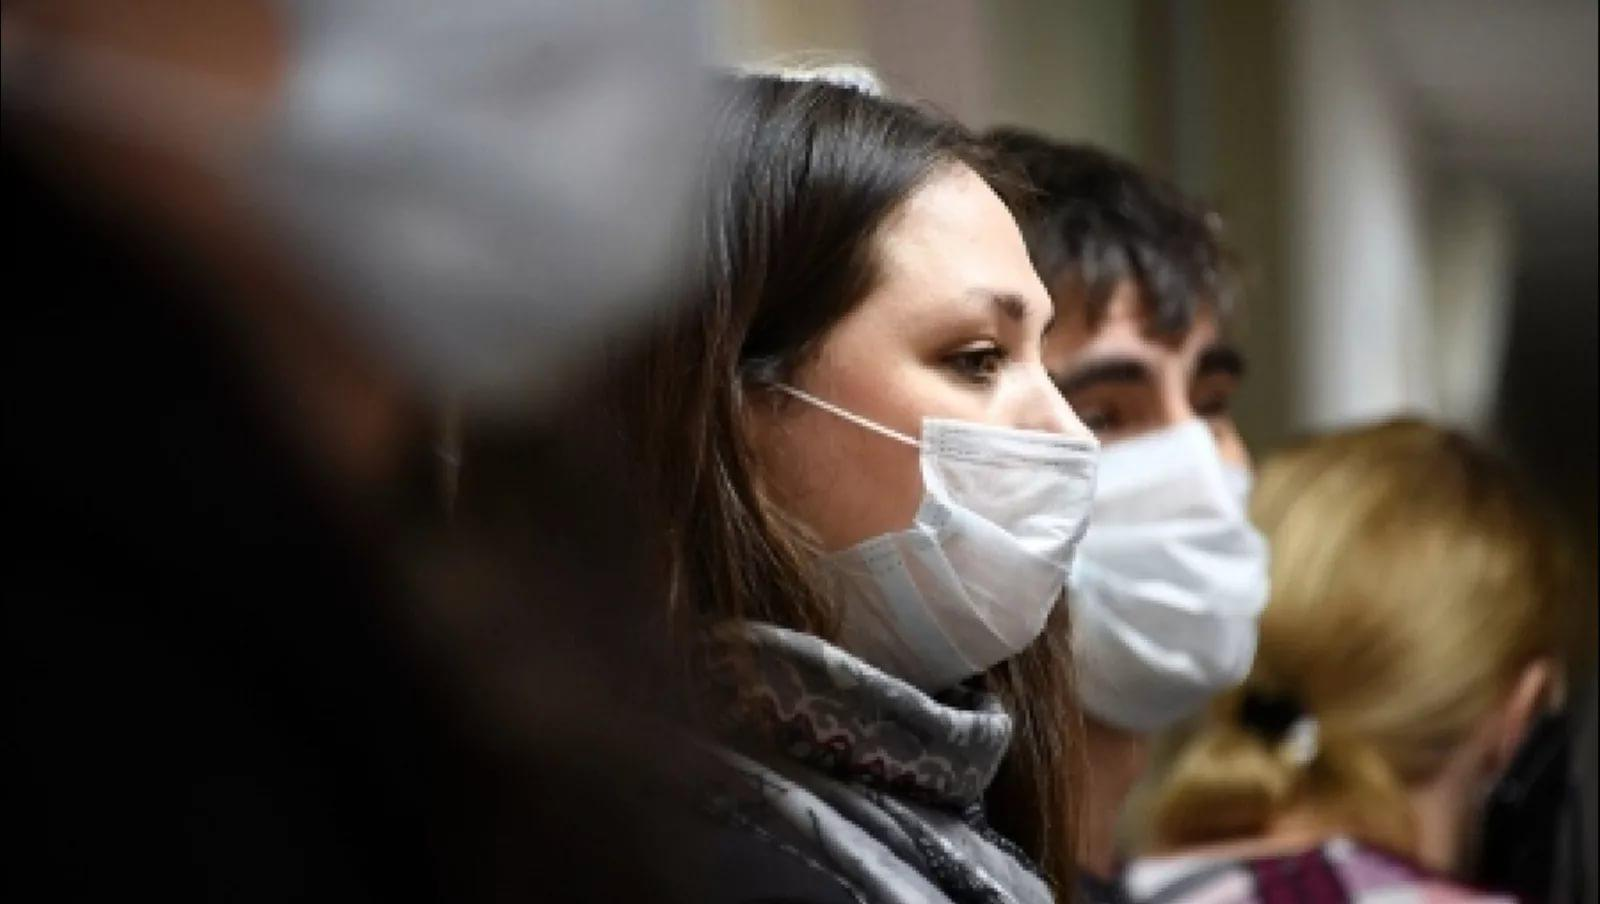mask: (788, 244, 1097, 691)
